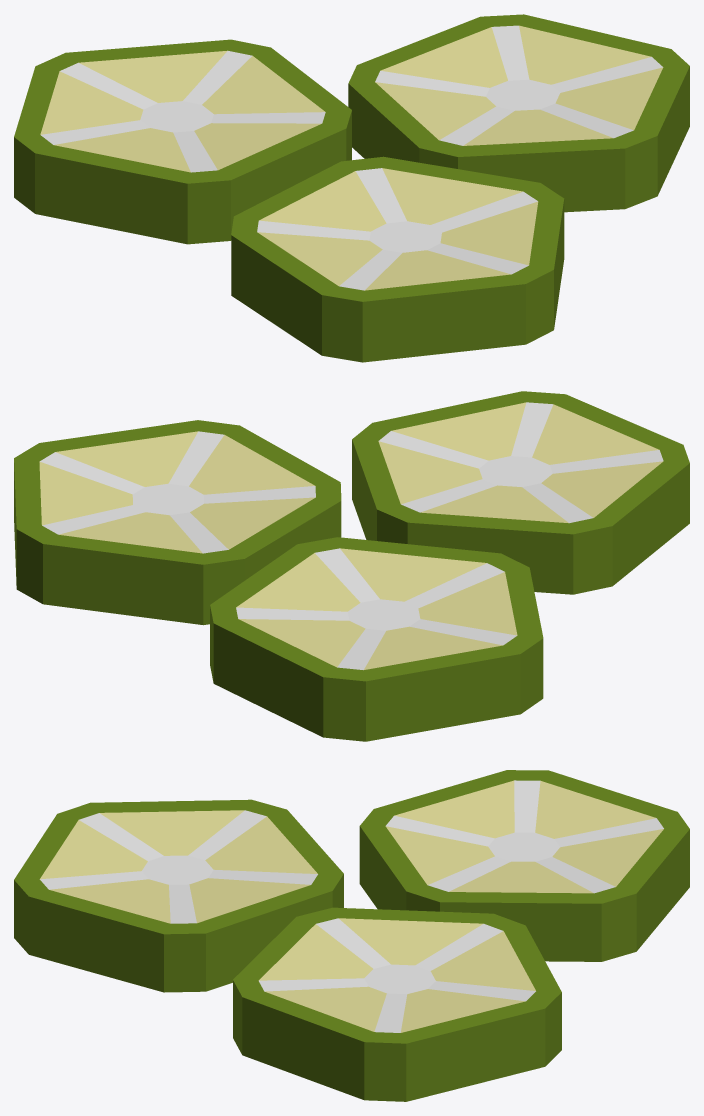
File: Kamias Sliced.fbx
The picture shows the model from 3 angles, top to bottom: view 1: azimuth 30°, elevation 25°; view 2: azimuth 150°, elevation 25°; view 3: azimuth 270°, elevation 25°; orthographic projection. The views are drawn at different scales.
Visible parts, largest first — view 1: Kamias Sliced; view 2: Kamias Sliced; view 3: Kamias Sliced.
Part boxes in pixels (<box>): Kamias Sliced: <box>14,14,689,362</box>; Kamias Sliced: <box>14,391,689,741</box>; Kamias Sliced: <box>14,770,689,1101</box>.
Size of the model in its own units: 21.55 by 2.14 by 22.5.
